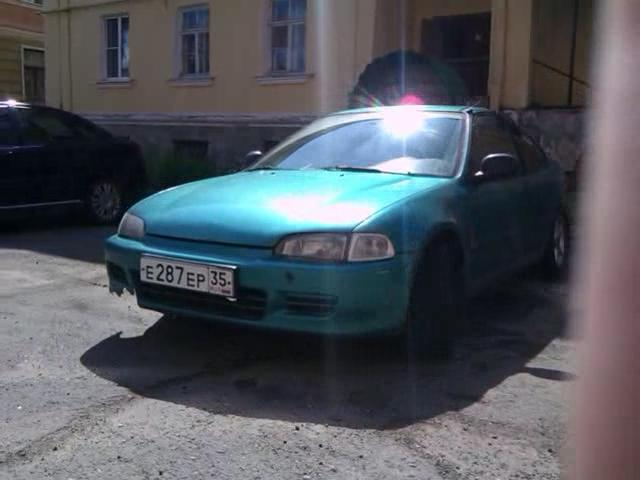car license plate: (135, 253, 237, 301)
